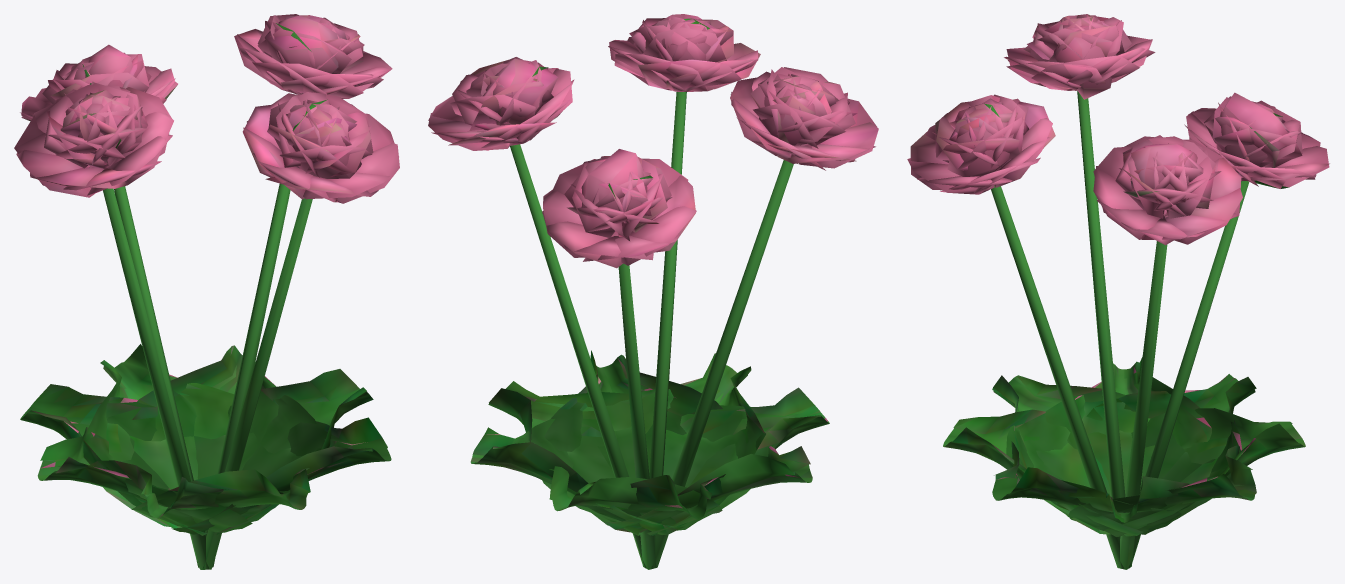
Rendered from crop_peony.glb.
3 views of the same model, side by side, from view 1: azimuth 30°, elevation 25°; view 2: azimuth 150°, elevation 25°; view 3: azimuth 270°, elevation 25° (orthographic). The views are drawn at different scales.
Visible parts, largest first — view 1: crop_peony, fruit; view 2: crop_peony, fruit; view 3: crop_peony, fruit.
Boxes of the visible parts, x1=… form: crop_peony: x1=20, y1=183, x2=391, y2=569; fruit: x1=14, y1=14, x2=399, y2=203; crop_peony: x1=470, y1=92, x2=829, y2=569; fruit: x1=428, y1=14, x2=878, y2=268; crop_peony: x1=943, y1=91, x2=1305, y2=569; fruit: x1=907, y1=14, x2=1329, y2=245.
Bounding box in the file's own units: 0.2297 × 0.2845 × 0.2223.
1 material, 1 textured.
